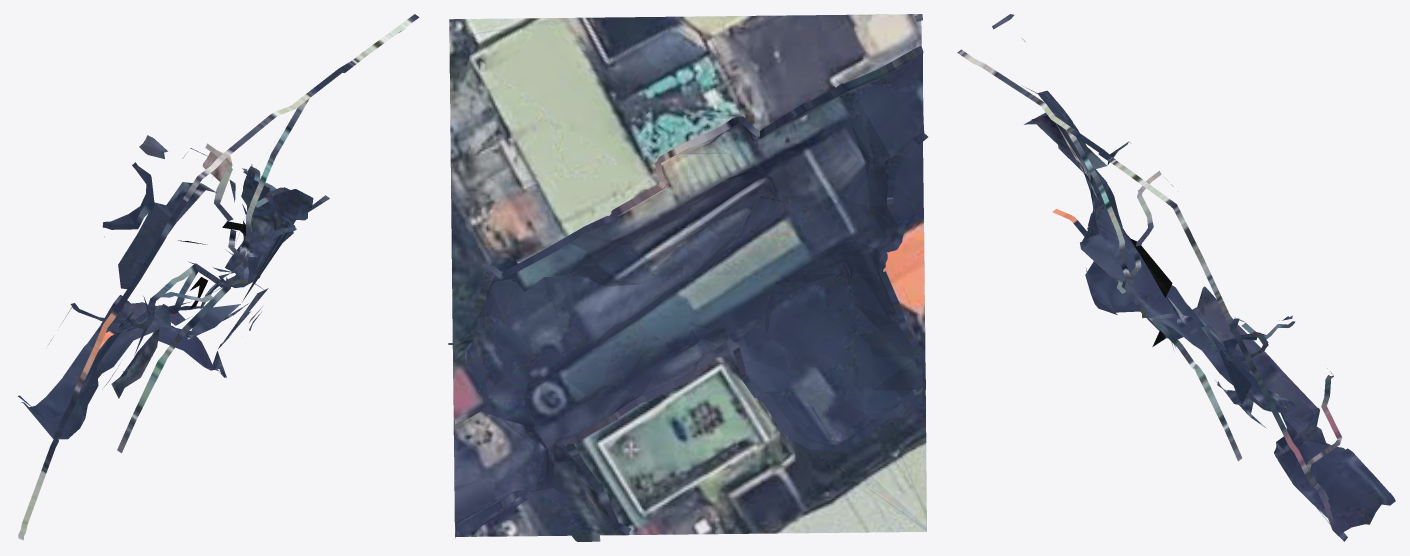
3 renders of one model, left to right at view 1: azimuth 30°, elevation 25°; view 2: azimuth 150°, elevation 25°; view 3: azimuth 270°, elevation 25°, orthographic. The views are drawn at different scales.
Bounding box in the file's own units: 38.27 × 37.09 × 36.14.
2 materials, 2 textured.
